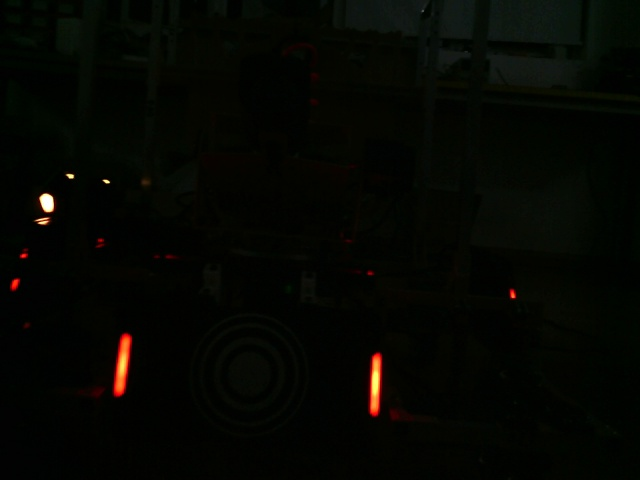lamp: (110, 329, 133, 401), (368, 351, 381, 419)
